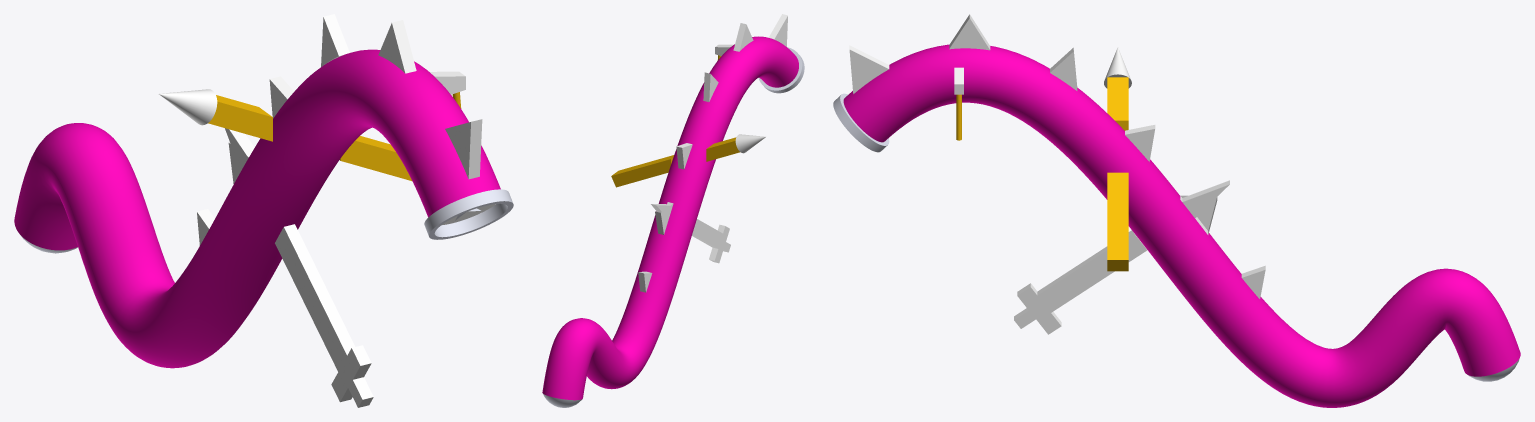
Rendered from Worm.fbx.
3 views of the same model, side by side, from view 1: azimuth 30°, elevation 25°; view 2: azimuth 150°, elevation 25°; view 3: azimuth 270°, elevation 25° (orthographic). The views are drawn at different scales.
Parts seen in each view (by area): view 1: RealWorm; view 2: RealWorm; view 3: RealWorm.
Boxes of the visible parts, x1,y1,x2,y2 form: RealWorm: (14, 14, 513, 407); RealWorm: (542, 14, 804, 407); RealWorm: (833, 14, 1520, 407).
Bounding box in the file's own units: 214 × 362 × 580.
